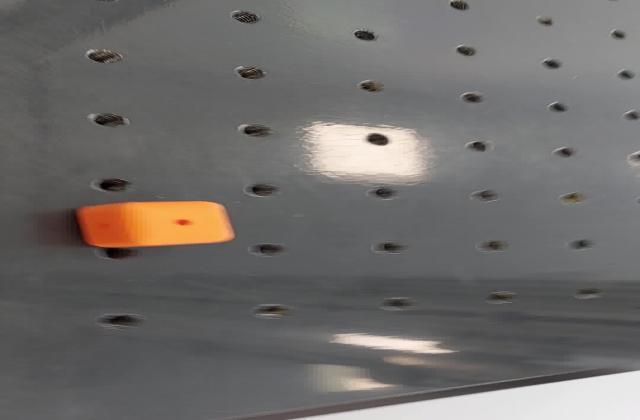cube: (68, 200, 239, 250)
